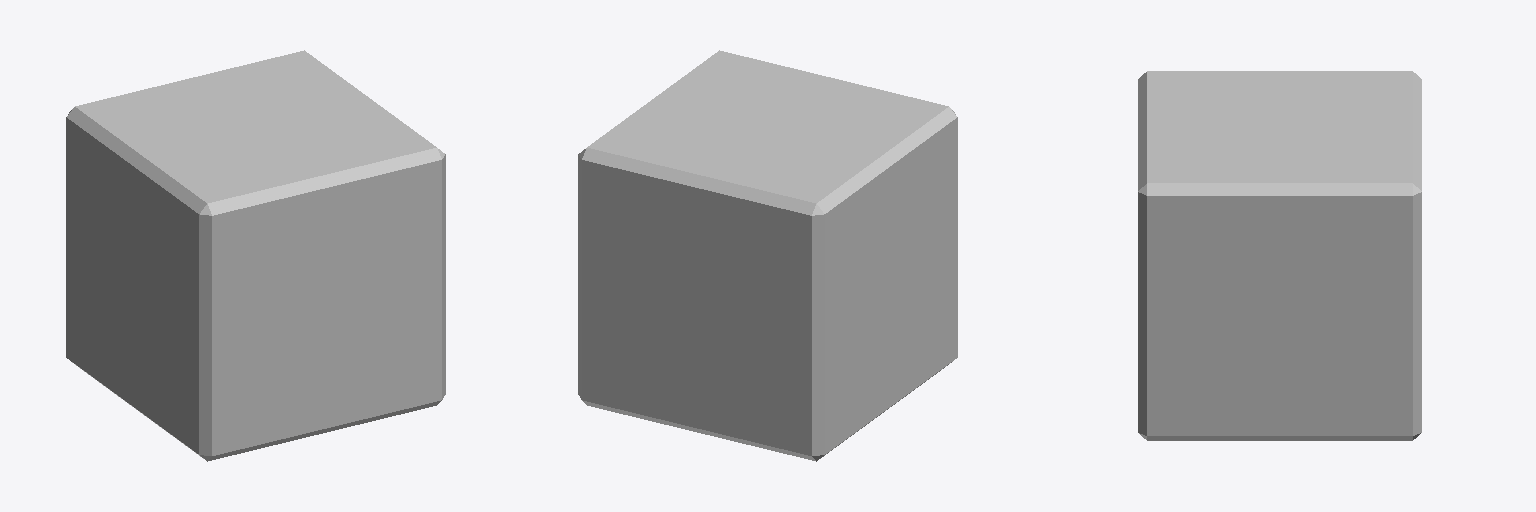
Rendered from WallObj.obj.
3 renders of one model, left to right at view 1: azimuth 30°, elevation 25°; view 2: azimuth 150°, elevation 25°; view 3: azimuth 270°, elevation 25°, orthographic.
Visible parts, largest first — view 1: Cube.005; view 2: Cube.005; view 3: Cube.005.
Boxes of the visible parts, x1,y1,x2,y2 form: Cube.005: [66, 50, 445, 461]; Cube.005: [578, 50, 957, 461]; Cube.005: [1138, 71, 1421, 440].
Bounding box in the file's own units: 1 × 1 × 1.